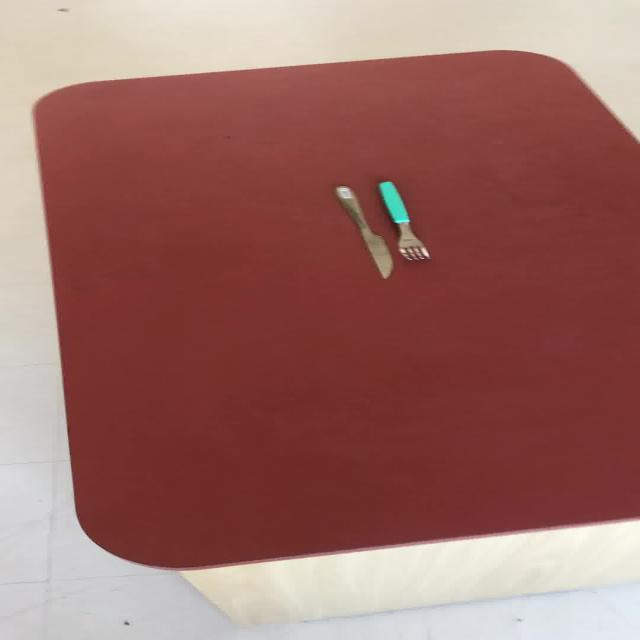fork: (376, 180, 430, 261)
knife fork: (332, 184, 393, 279)
